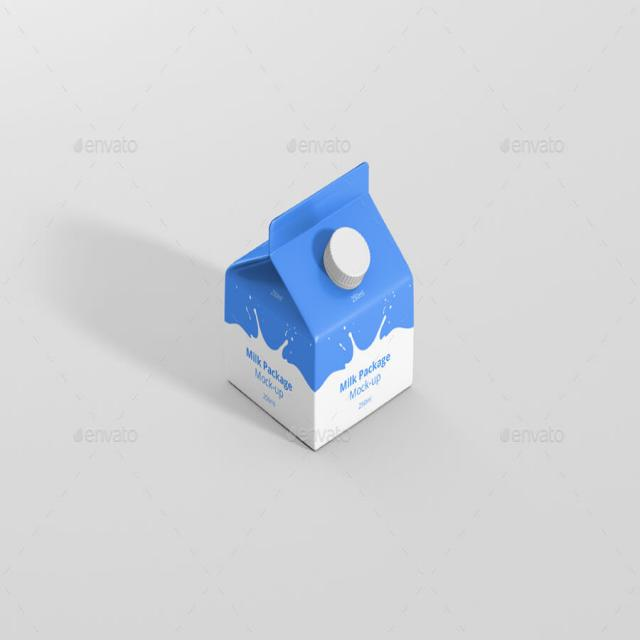non_white_jug: (218, 156, 428, 452)
